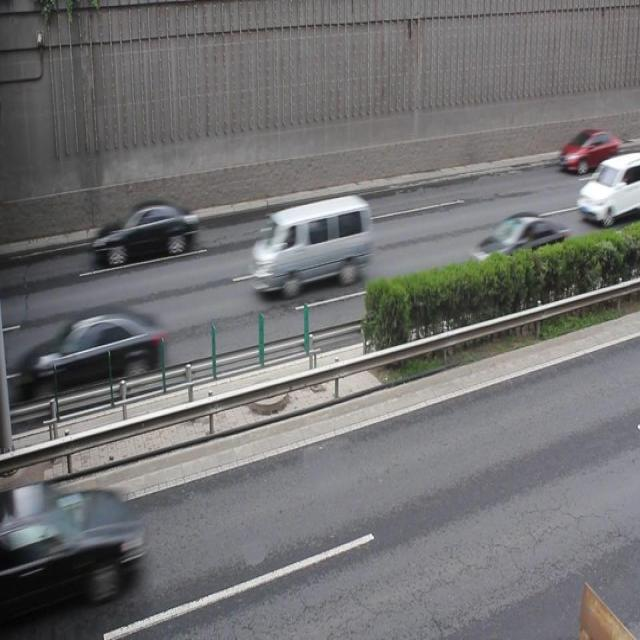car: (9, 482, 138, 618), (38, 304, 166, 396), (471, 210, 564, 284), (92, 197, 196, 263), (576, 154, 640, 226), (556, 128, 620, 174)
truck: (250, 194, 370, 293)
